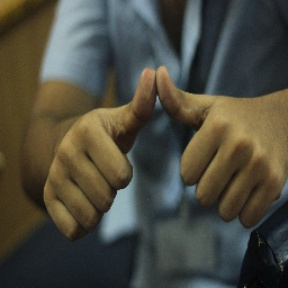A: (100, 60, 222, 194)
